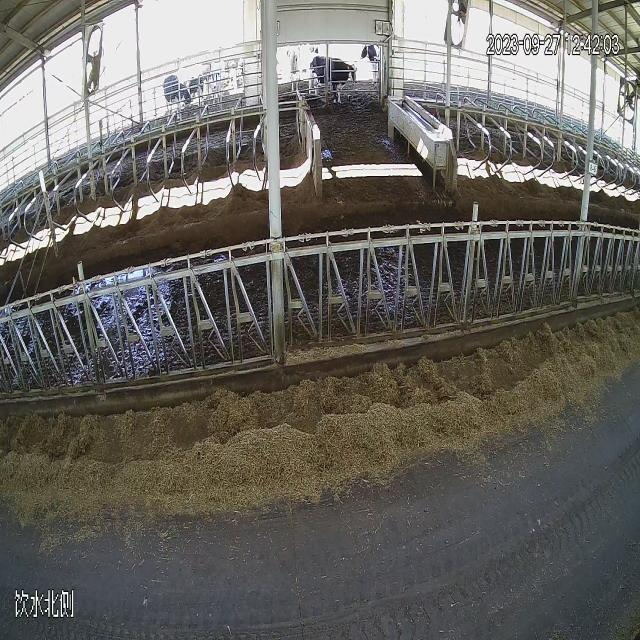standing: (309, 42, 362, 124), (154, 68, 193, 134), (360, 33, 388, 95)
